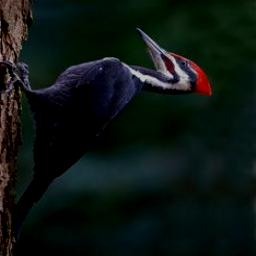Woodpecker: (0, 27, 212, 255)
